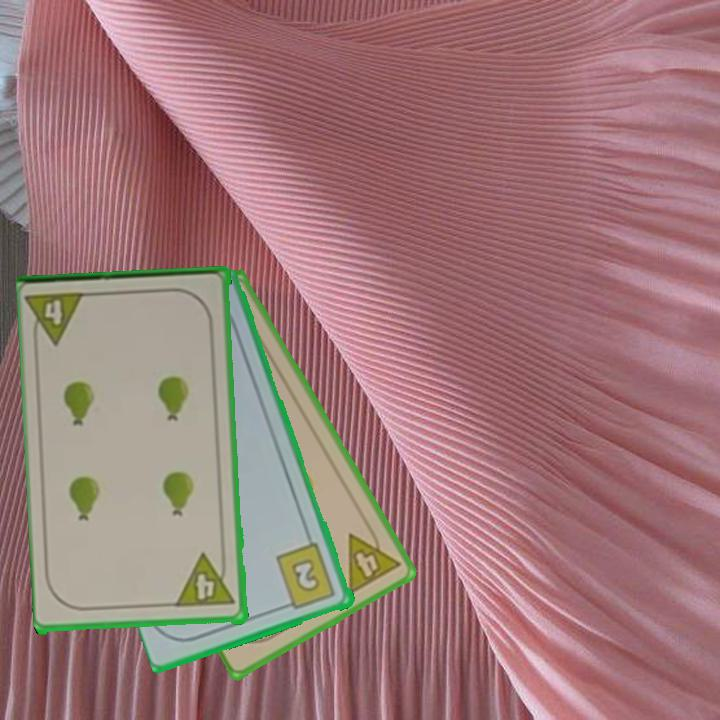2b: (273, 540, 339, 613)
4p: (344, 520, 404, 598), (25, 288, 91, 350), (173, 551, 239, 611)
